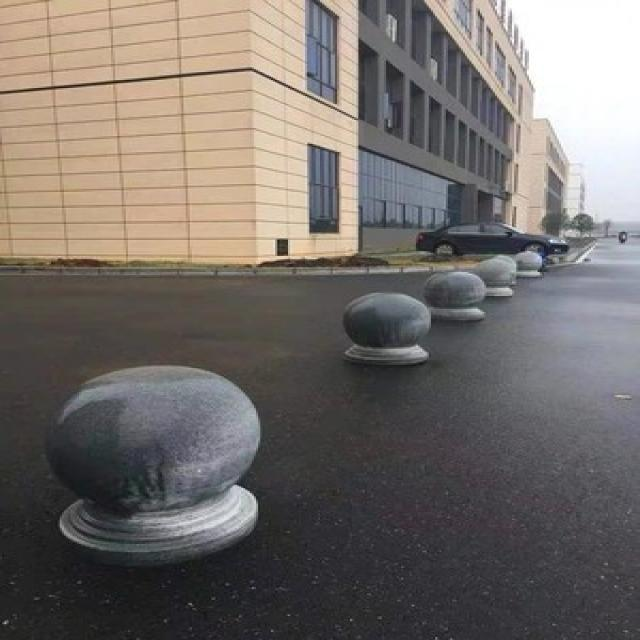car: (410, 219, 568, 258)
spherical_roadblock: (49, 363, 265, 565), (339, 288, 429, 365), (422, 266, 487, 322), (469, 258, 514, 298), (512, 248, 542, 277)
